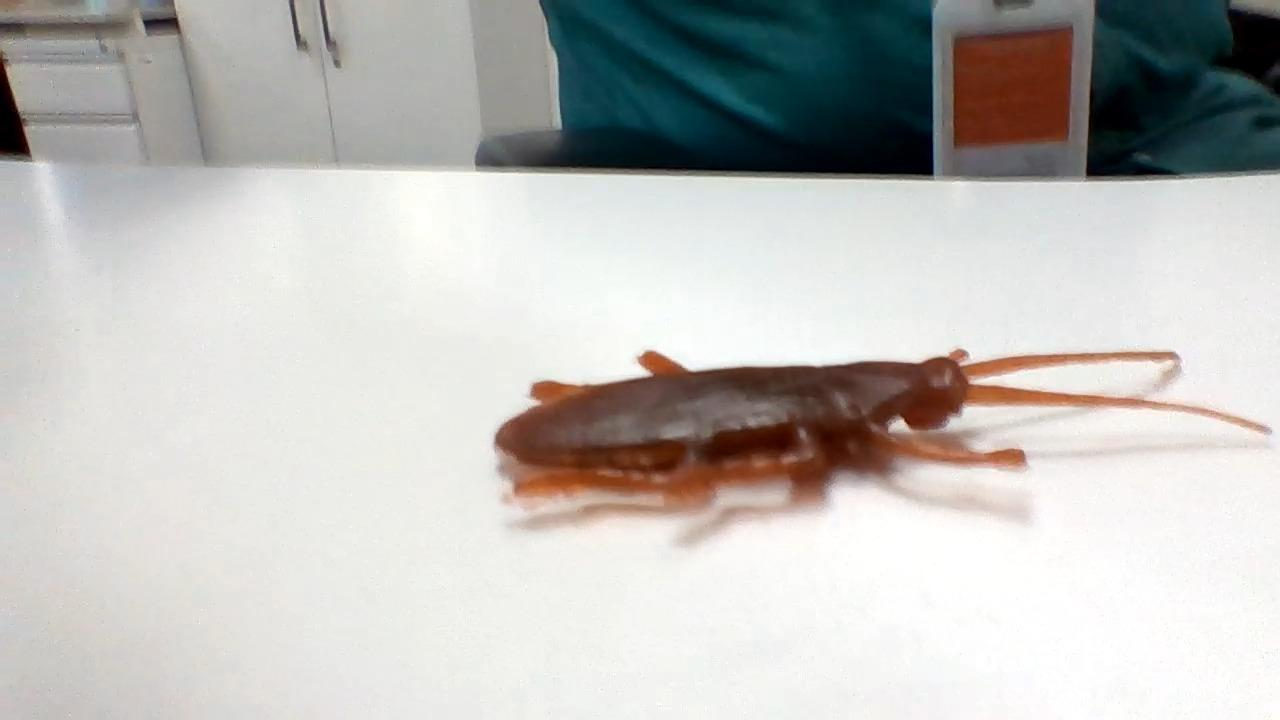cockroach: (473, 322, 1270, 504)
